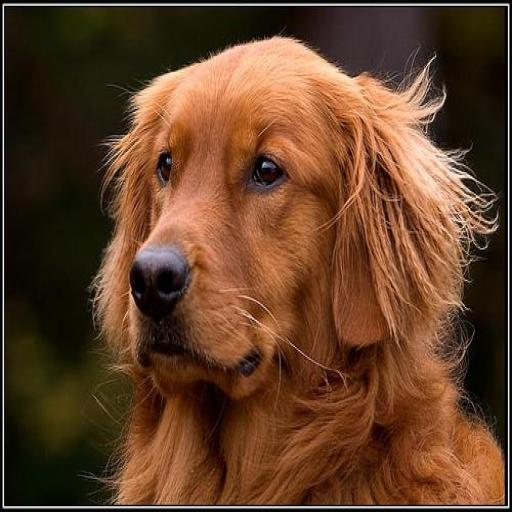dog_face: (96, 61, 451, 404)
